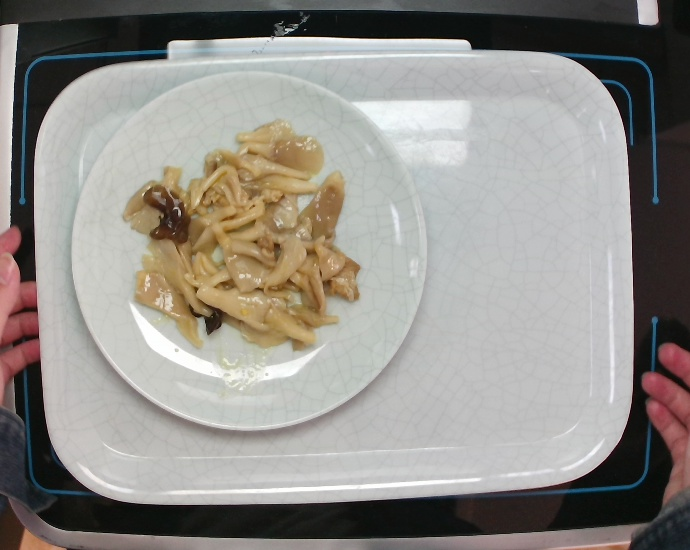JYsf-Da_Yuan_Pan: (67, 71, 432, 432)
